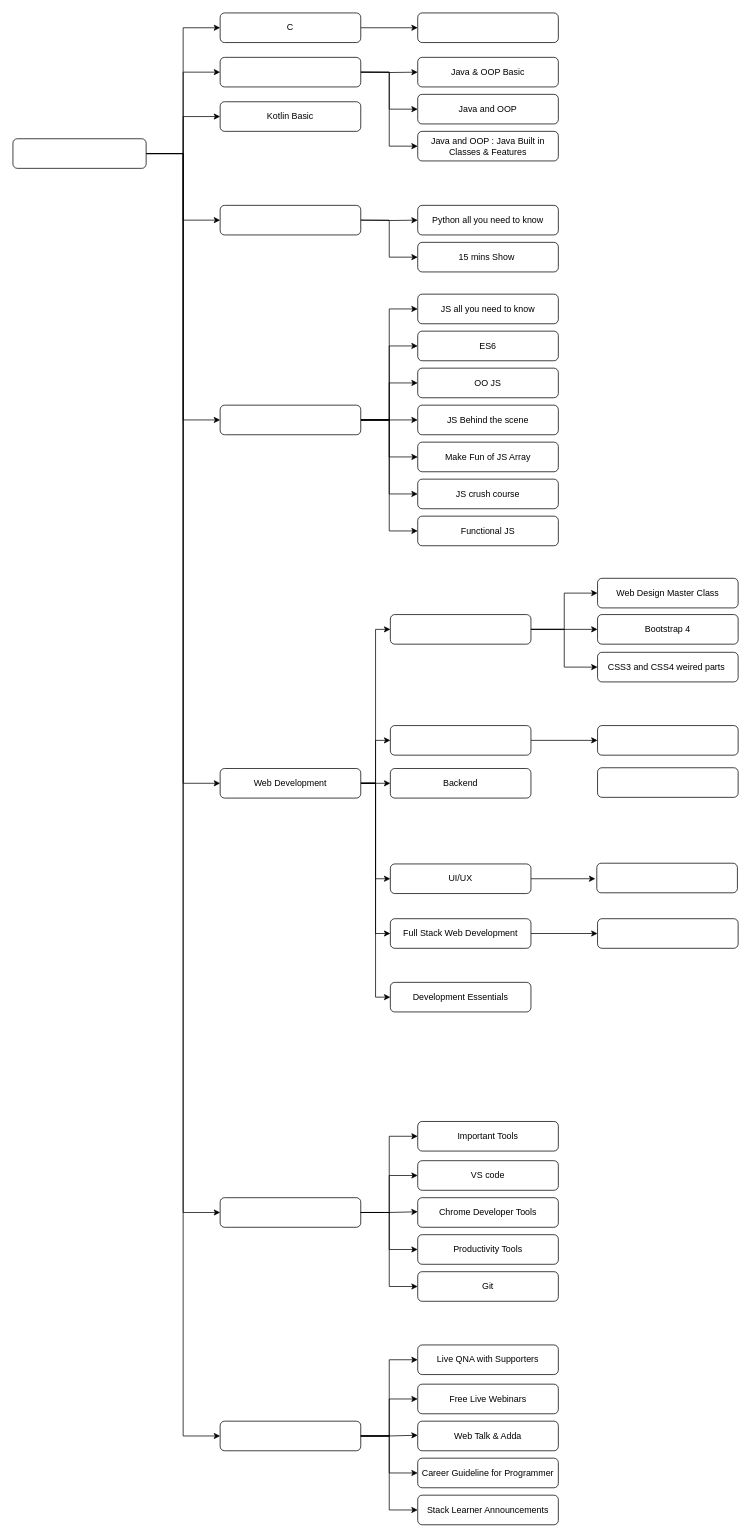
This 751x1538 diagram has some shape labels left out. The centre of each missing label's shape, as x and y in pixels:
C All You Need to Know: [487,27]
Express 101: [667,782]
Frontend: [460,740]
Full-stack Army: [667,933]
Java: [290,72]
Javascript: [290,419]
Python: [290,220]
Stack Learner YouTube Playlist: [79,153]
Tools: [290,1212]
User Interface Design: [666,877]
Web Design: [460,629]
Webiners: [290,1435]
